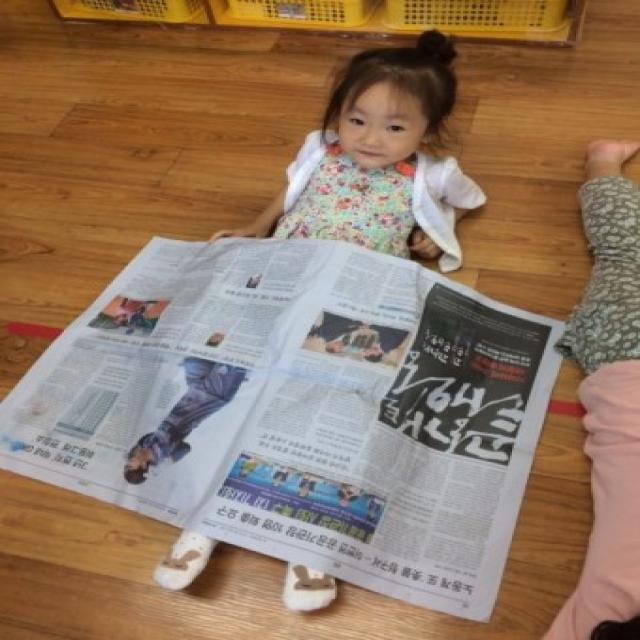Newspaper: (1, 232, 567, 628)
